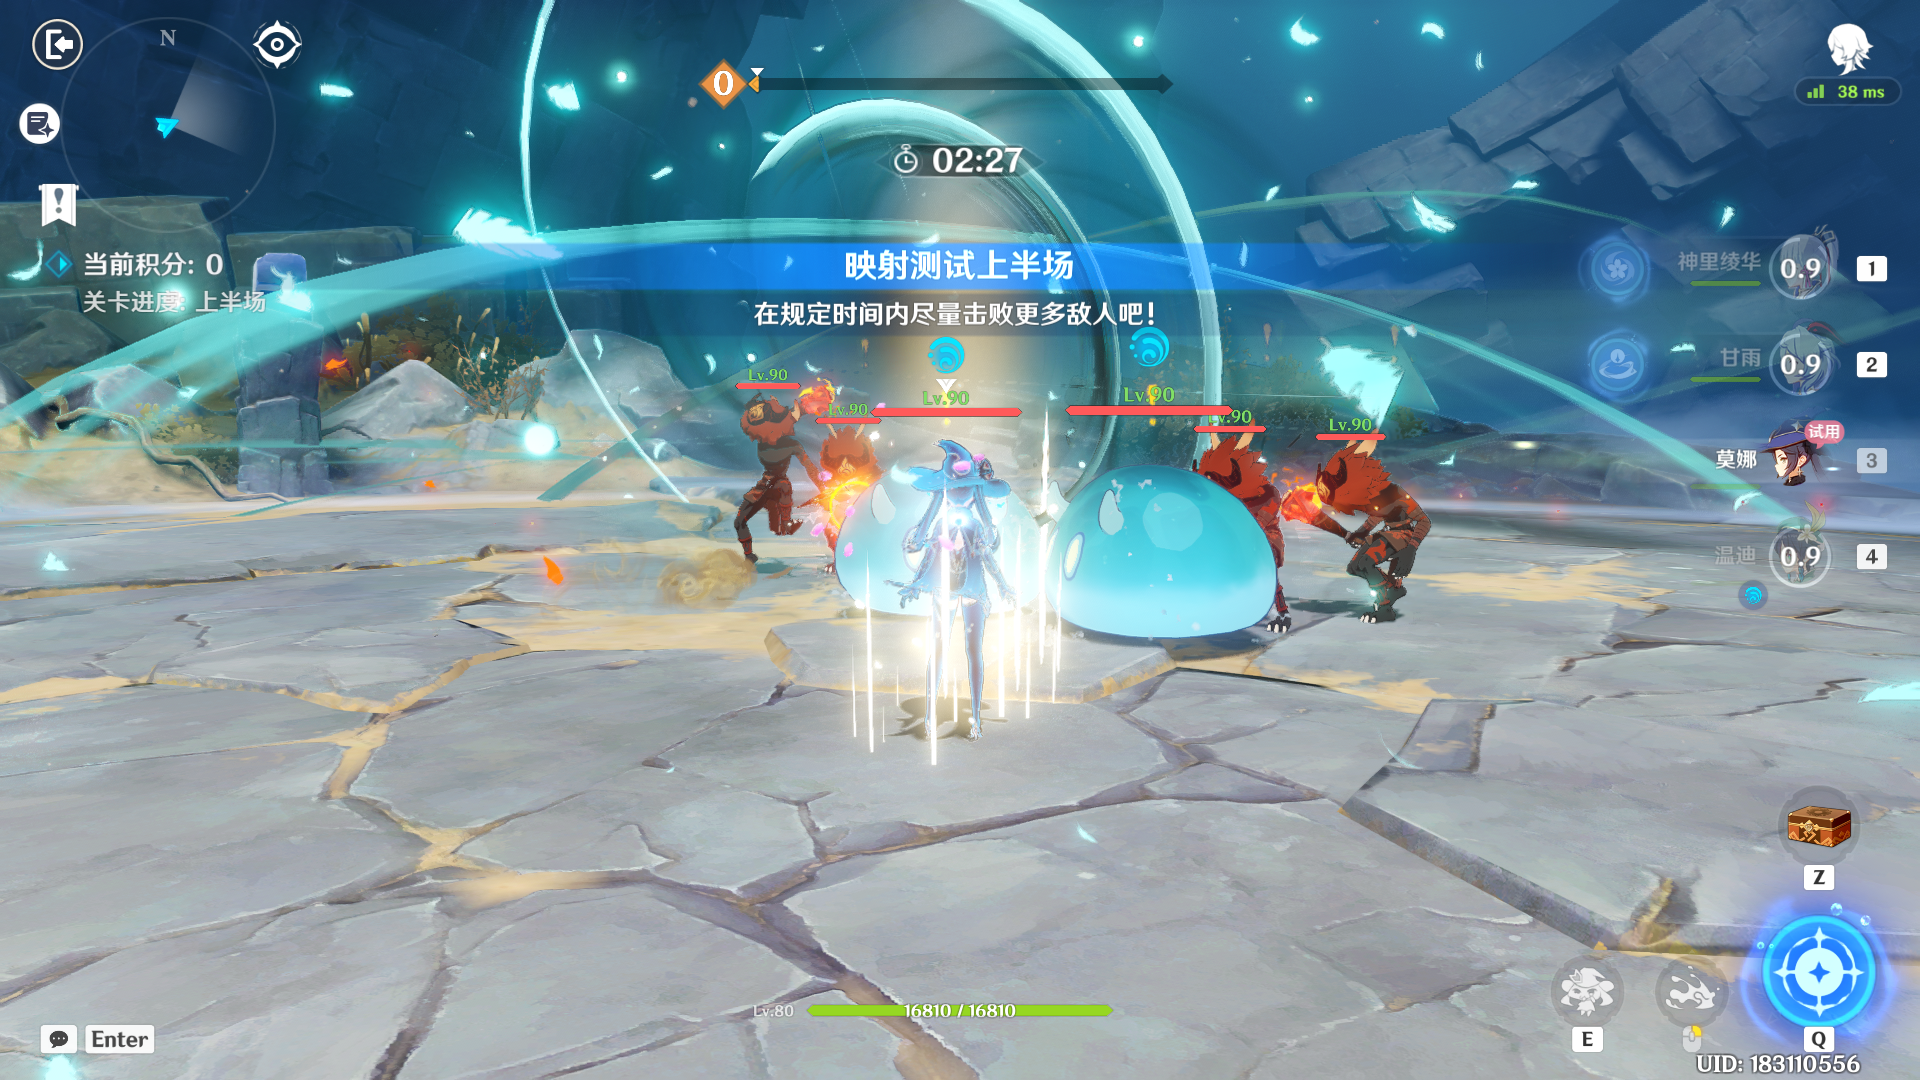character: (880, 421, 1062, 782)
hili: (1294, 404, 1480, 696), (1179, 409, 1313, 650), (695, 371, 847, 575), (787, 406, 916, 582)
slime: (1025, 400, 1291, 691), (795, 427, 1036, 626)
